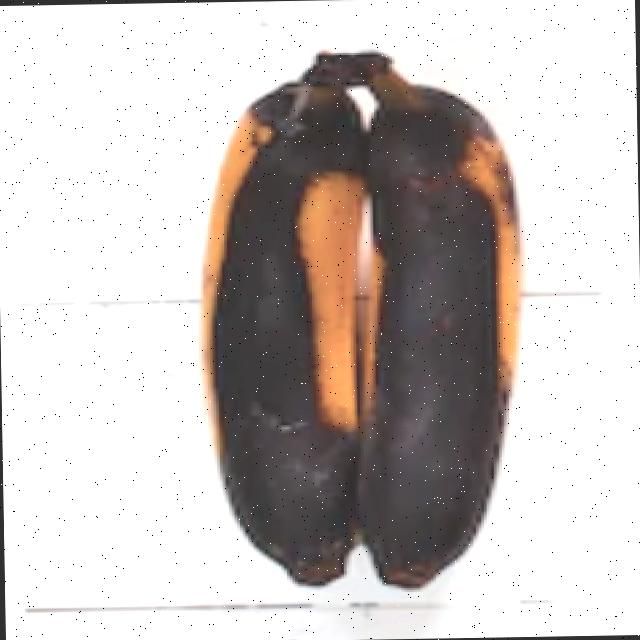Rotten: (346, 41, 552, 590), (179, 41, 369, 584)
